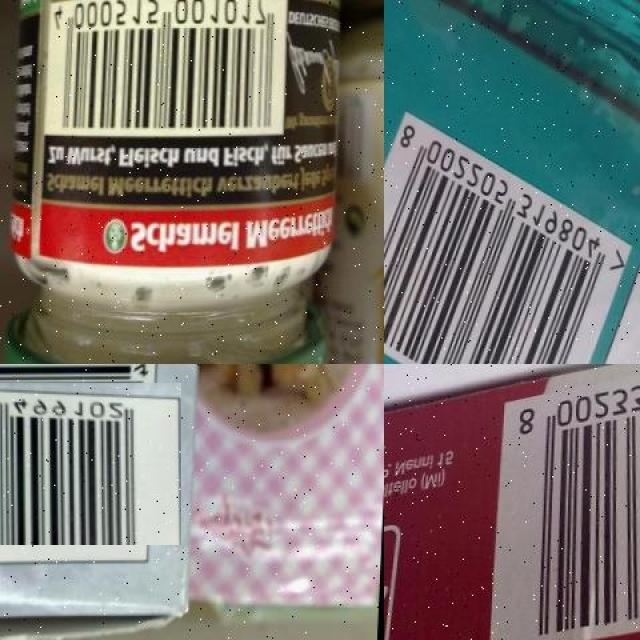Barcode: (384, 112, 637, 364), (490, 364, 640, 640), (47, 0, 289, 136), (0, 373, 172, 554)
